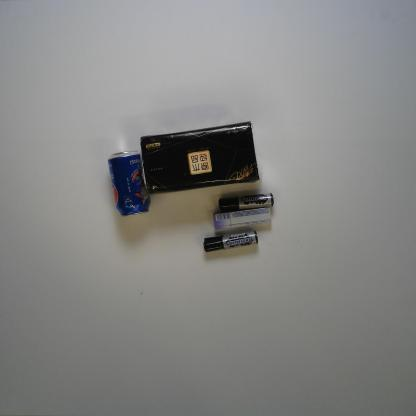Candy: (212, 206, 272, 231)
Drink: (106, 148, 150, 218)
Stationery: (202, 229, 259, 254), (217, 192, 275, 212)
Tissue: (139, 119, 262, 196)
